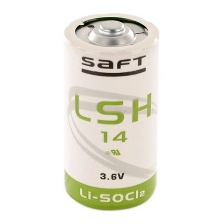battery: (60, 9, 165, 214)
